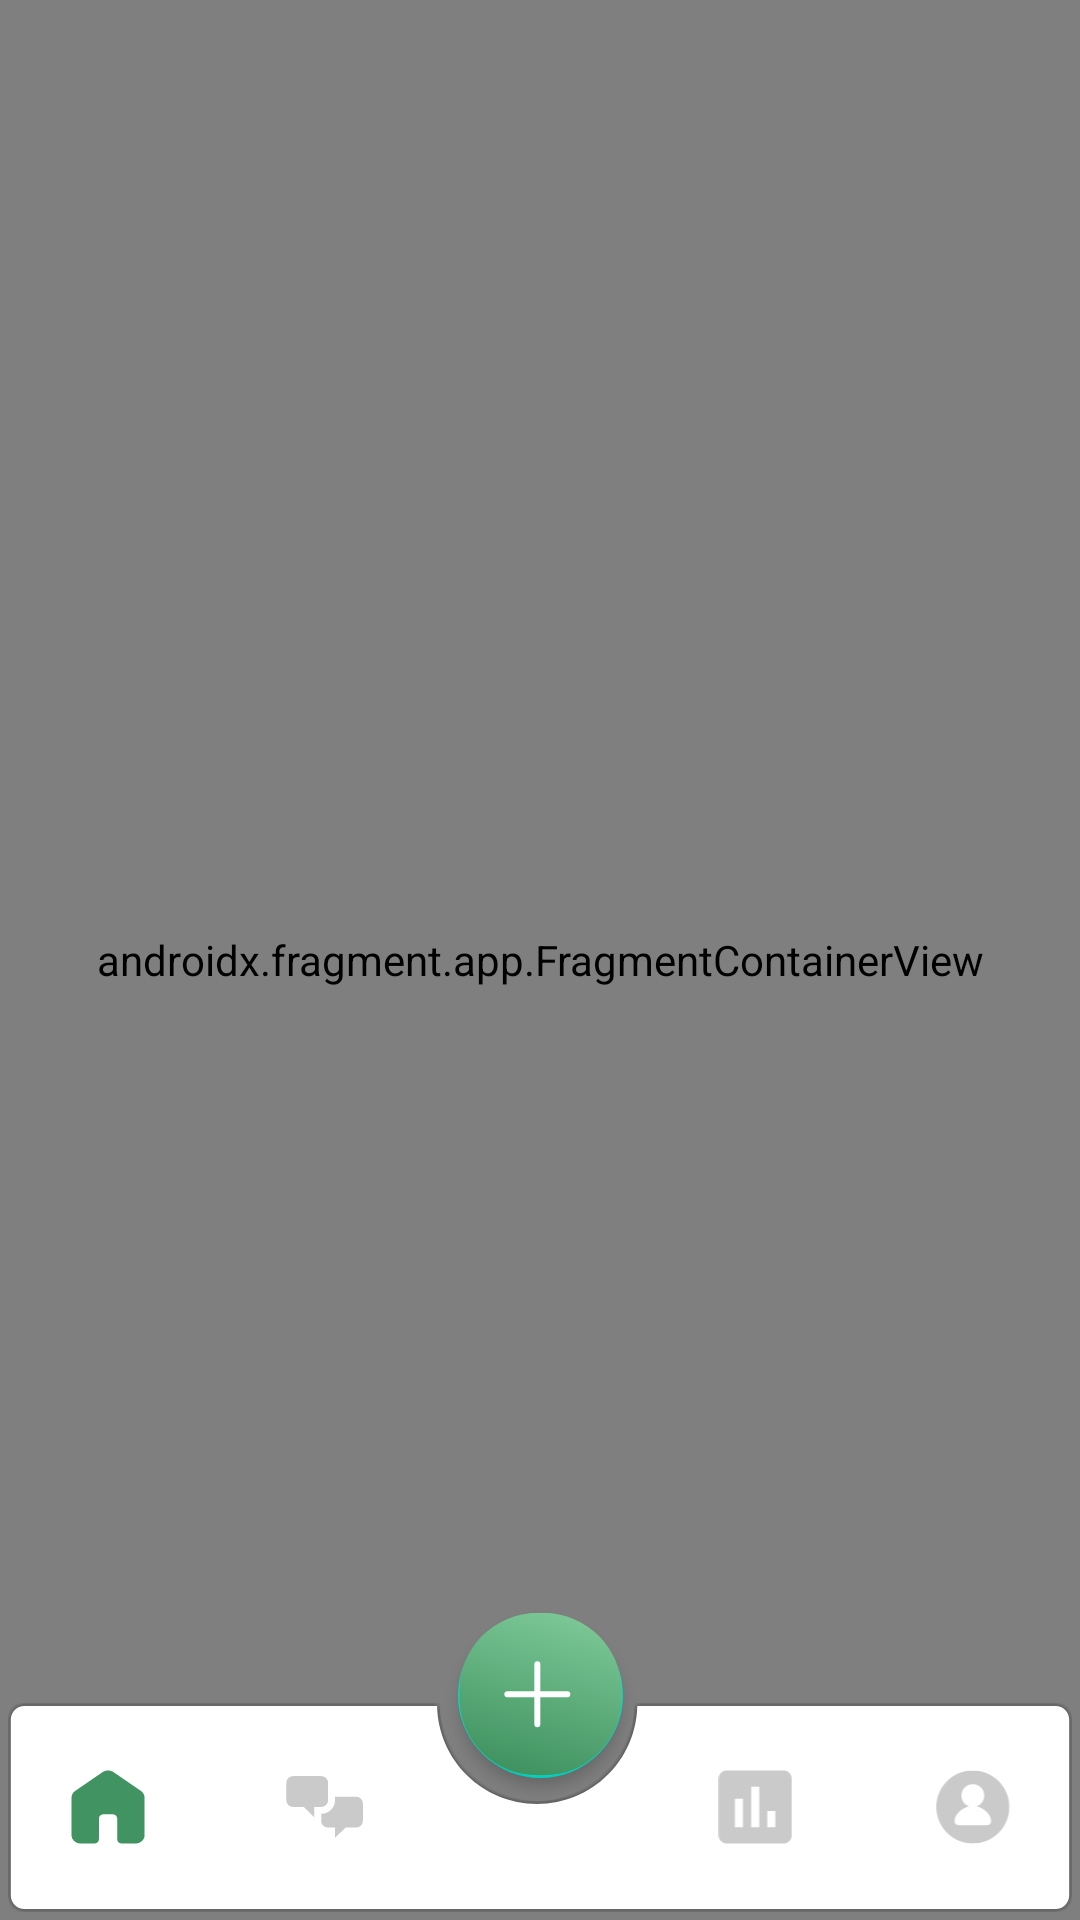

Where icons sit on this 1080px×1920px app screen, as (x1, y1, x2, y2):
navigation plus: (458, 1613, 623, 1778)
